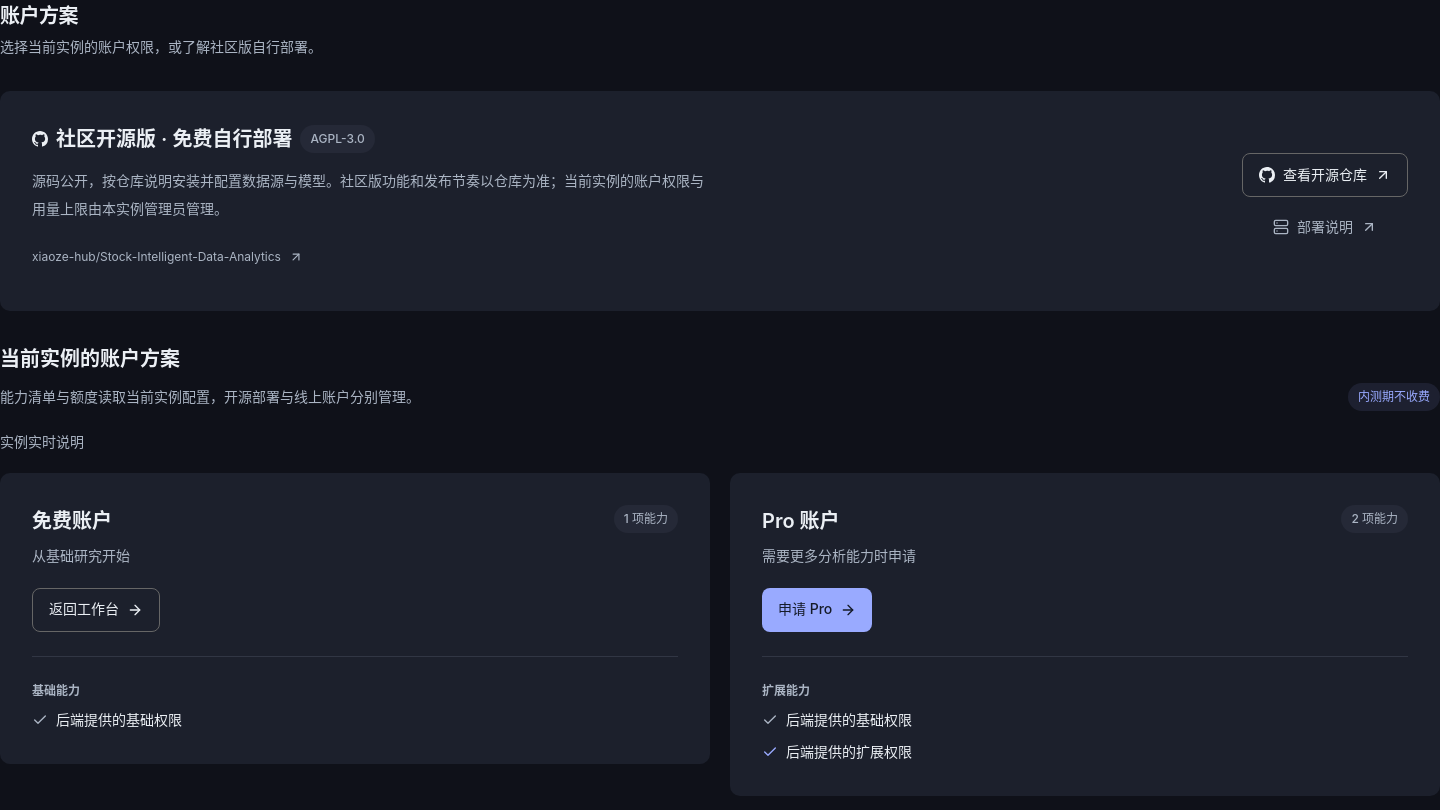
公开账户方案 › 提交成功但状态刷新失败时仍显示审核中，防止重复提交
Click the button "申请 Pro" at (817, 610), box [762,588,872,632]
(page scrolled)
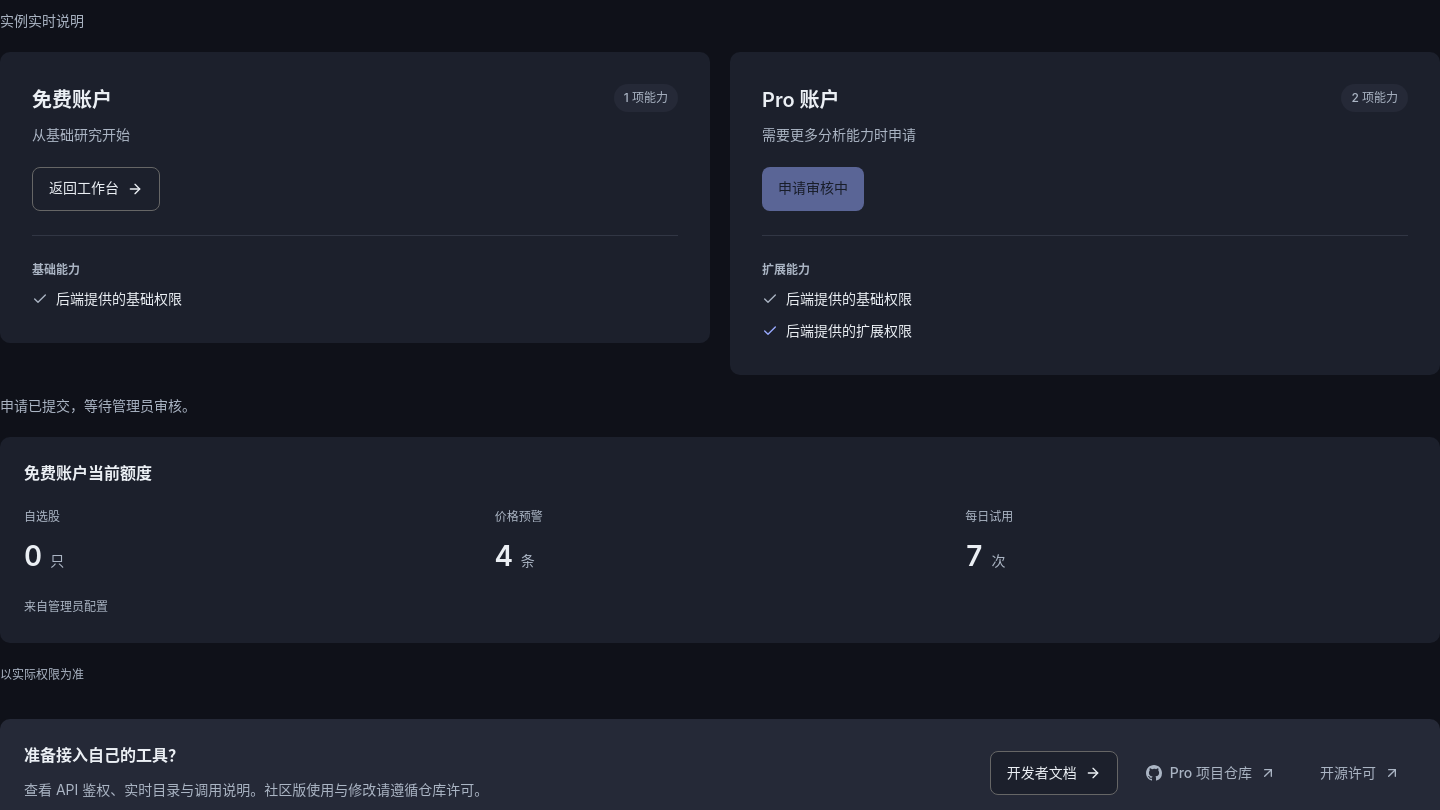
Now the button "申请审核中" is disabled, box [762,166,864,210]
Now the text "申请已提交，等待管理员审核。" is shown, box [0,397,196,414]
